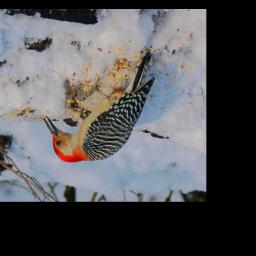Woodpecker: (43, 45, 158, 164)
